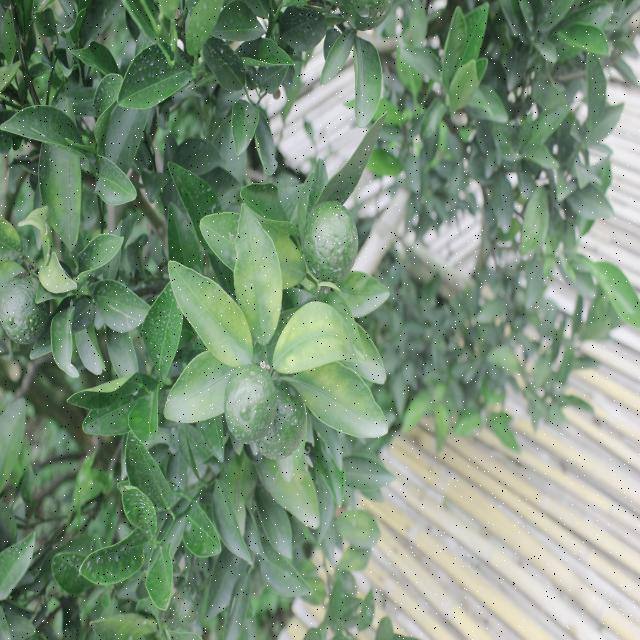greening: (278, 293, 390, 386), (158, 263, 257, 363), (227, 208, 284, 334), (309, 376, 389, 442)
